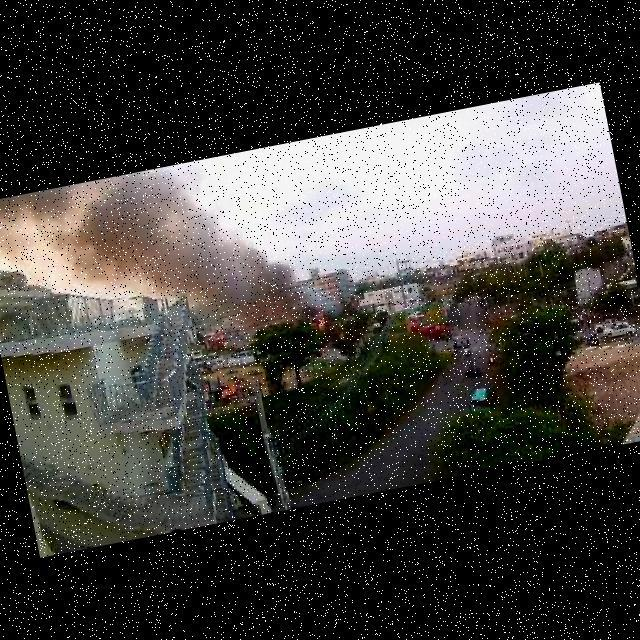Fire: (318, 319, 327, 326)
Smoke: (0, 160, 220, 321), (197, 236, 312, 351)
